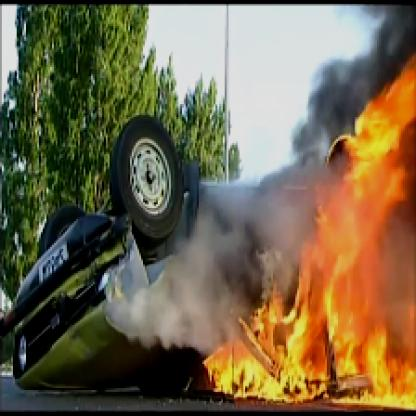Fire: (193, 46, 414, 408)
